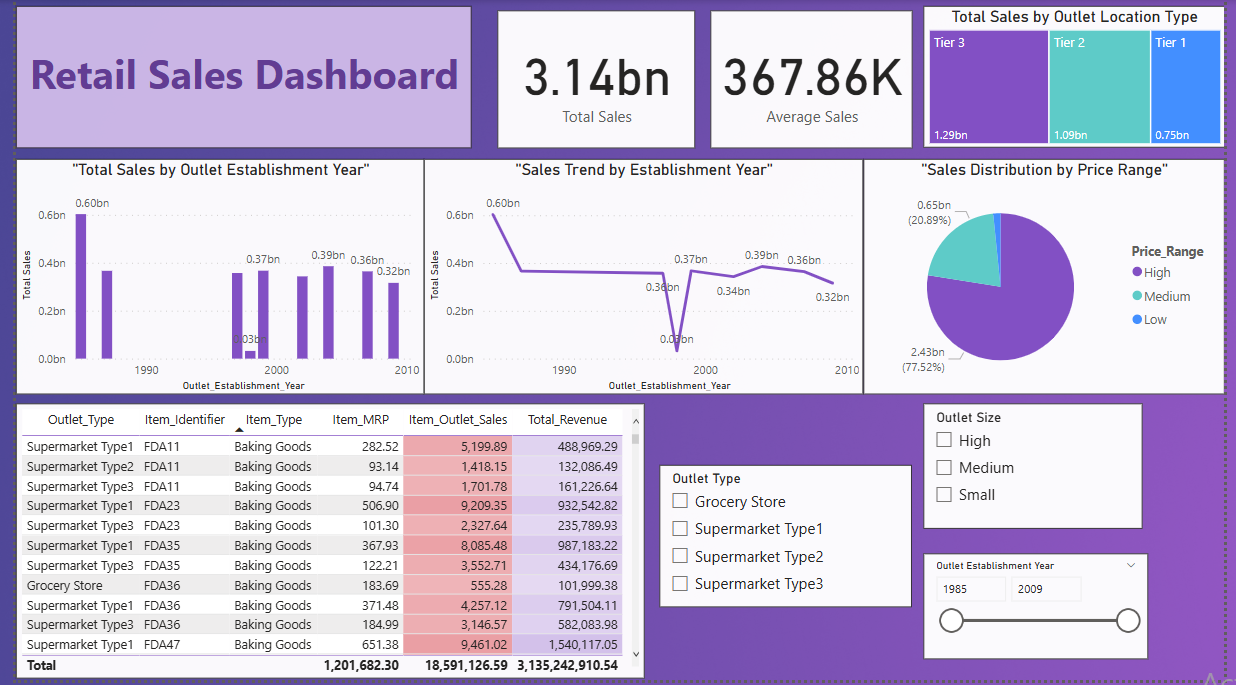

Layout of this report page (visuals, bound fields, positions):
{"tool":"powerbi","page":{"name":"Page 1","canvas":[1280,720],"ordinal":0},"visuals":[{"type":"clusteredColumnChart","title":"\"Total Sales by Outlet Establishment Year\"","fields":{"Category":["RetailSalesData.Outlet_Establishment_Year"],"Y":["RetailSalesData.Total Sales"]},"box":[0,168.5,432.6,249.5],"z":0},{"type":"lineChart","title":"\"Sales Trend by Establishment Year\"","fields":{"Category":["RetailSalesData.Outlet_Establishment_Year"],"Y":["RetailSalesData.Total Sales"]},"box":[432.6,168.5,465,249.5],"z":1000},{"type":"pieChart","title":"\"Sales Distribution by Price Range\"","fields":{"Category":["RetailSalesData.Price_Range"],"Y":["RetailSalesData.Total Sales"]},"box":[897.6,168.5,382.4,249.5],"z":2000},{"type":"tableEx","fields":{"Values":["RetailSalesData.Outlet_Type","RetailSalesData.Item_Identifier","RetailSalesData.Item_Type","Sum(RetailSalesData.Item_MRP)","Sum(RetailSalesData.Item_Outlet_Sales)","Sum(RetailSalesData.Total_Revenue)"]},"box":[0,427.7,665.9,291.6],"z":3000},{"type":"card","fields":{"Values":["RetailSalesData.Total Sales"]},"box":[510.4,11.3,209,145.8],"z":4000},{"type":"card","fields":{"Values":["RetailSalesData.Average Sales"]},"box":[735.6,11.3,213.9,145.8],"z":5000},{"type":"slicer","fields":{"Values":["RetailSalesData.Outlet_Establishment_Year"]},"box":[960.8,586.5,238.2,111.8],"z":6000},{"type":"slicer","fields":{"Values":["RetailSalesData.Outlet_Size"]},"box":[960.8,427.7,231.7,132.9],"z":7000},{"type":"slicer","fields":{"Values":["RetailSalesData.Outlet_Type"]},"box":[682.1,492.6,267.3,150.7],"z":8000},{"type":"textbox","box":[0,6.5,482.8,150.7],"z":9000},{"type":"treemap","title":"Total Sales by Outlet Location Type","fields":{"Group":["RetailSalesData.Outlet_Location_Type"],"Values":["RetailSalesData.Total Sales"]},"box":[961,7,319,150],"z":10000}]}

Visuals, with their boxes in screenshot pixels (x1, y1, x2, y2), scaled from the page's 1280x720 canvas onto the 1236x685 screenshot:
""Total Sales by Outlet Establishment Year"" clusteredColumnChart: <bbox>0, 160, 418, 398</bbox>
""Sales Trend by Establishment Year"" lineChart: <bbox>418, 160, 867, 398</bbox>
""Sales Distribution by Price Range"" pieChart: <bbox>867, 160, 1235, 398</bbox>
tableEx - RetailSalesData.Outlet_Type x RetailSalesData.Item_Identifier: <bbox>0, 407, 643, 684</bbox>
card - RetailSalesData.Total Sales: <bbox>493, 11, 695, 149</bbox>
card - RetailSalesData.Average Sales: <bbox>710, 11, 917, 149</bbox>
slicer - RetailSalesData.Outlet_Establishment_Year: <bbox>928, 558, 1158, 664</bbox>
slicer - RetailSalesData.Outlet_Size: <bbox>928, 407, 1152, 533</bbox>
slicer - RetailSalesData.Outlet_Type: <bbox>659, 469, 917, 612</bbox>
textbox: <bbox>0, 6, 466, 150</bbox>
"Total Sales by Outlet Location Type" treemap: <bbox>928, 7, 1235, 149</bbox>
